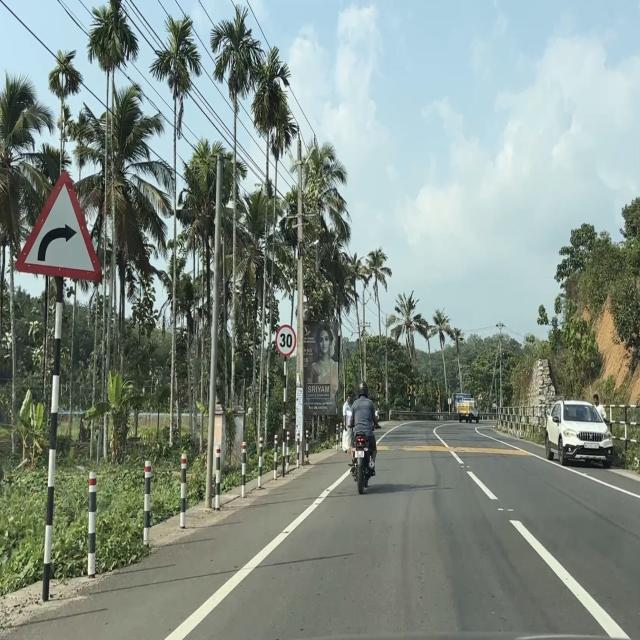RIGHT_TURN_AHEAD: (15, 169, 104, 283)
SPEED_LIMIT_30: (275, 323, 297, 358)
